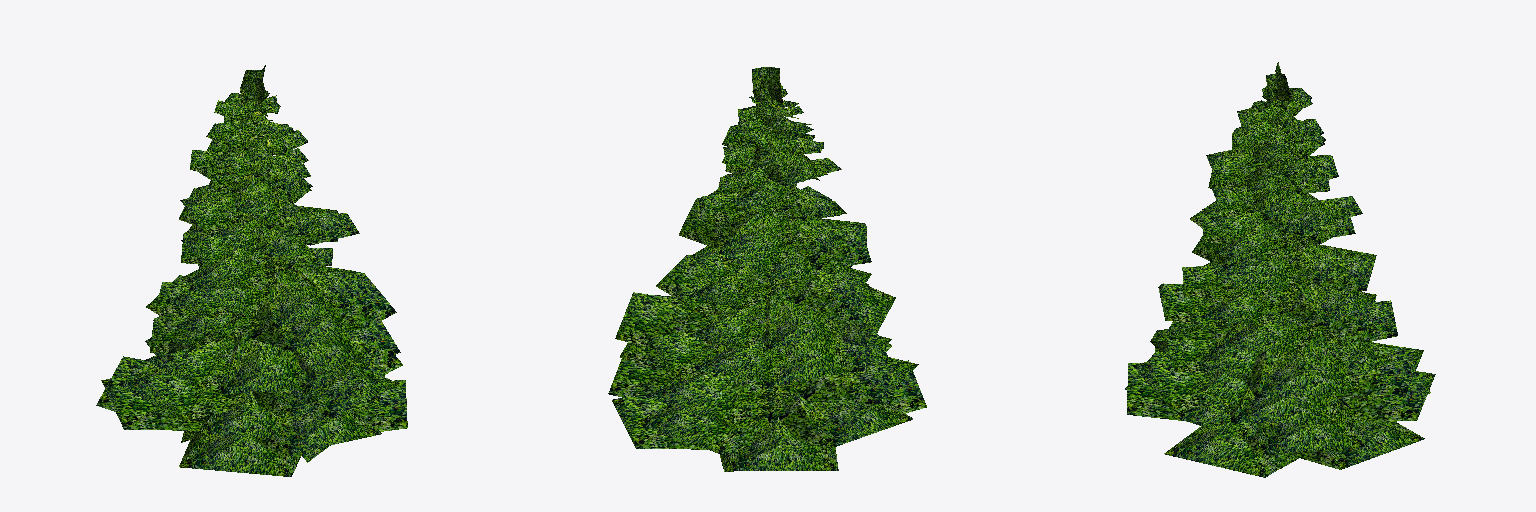
3 views of the same model, side by side, from view 1: azimuth 30°, elevation 25°; view 2: azimuth 150°, elevation 25°; view 3: azimuth 270°, elevation 25° (orthographic).
Parts seen in each view (by area): view 1: Pine_4m; view 2: Pine_4m; view 3: Pine_4m.
Boxes of the visible parts, box(x1,y1,x2,y2) form: Pine_4m: box(96, 65, 407, 476); Pine_4m: box(608, 67, 926, 471); Pine_4m: box(1125, 62, 1435, 477).
Size of the model in its own units: 170 by 221 by 164.
1 materials, 1 textured.